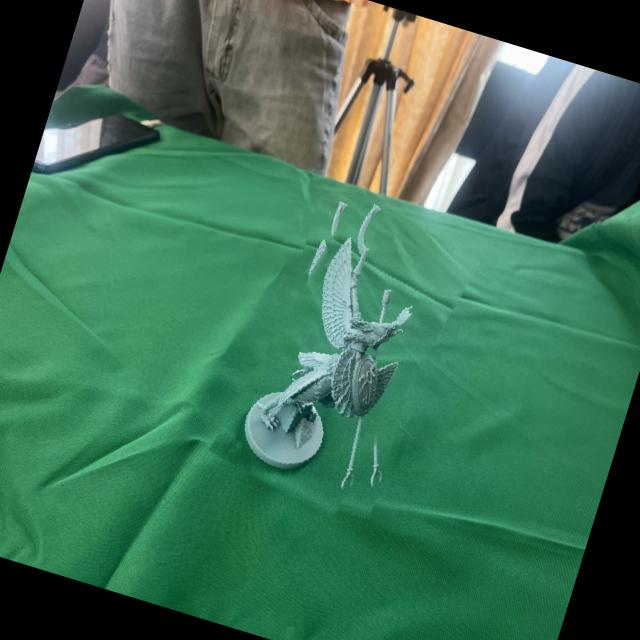isis: (216, 182, 473, 530)
